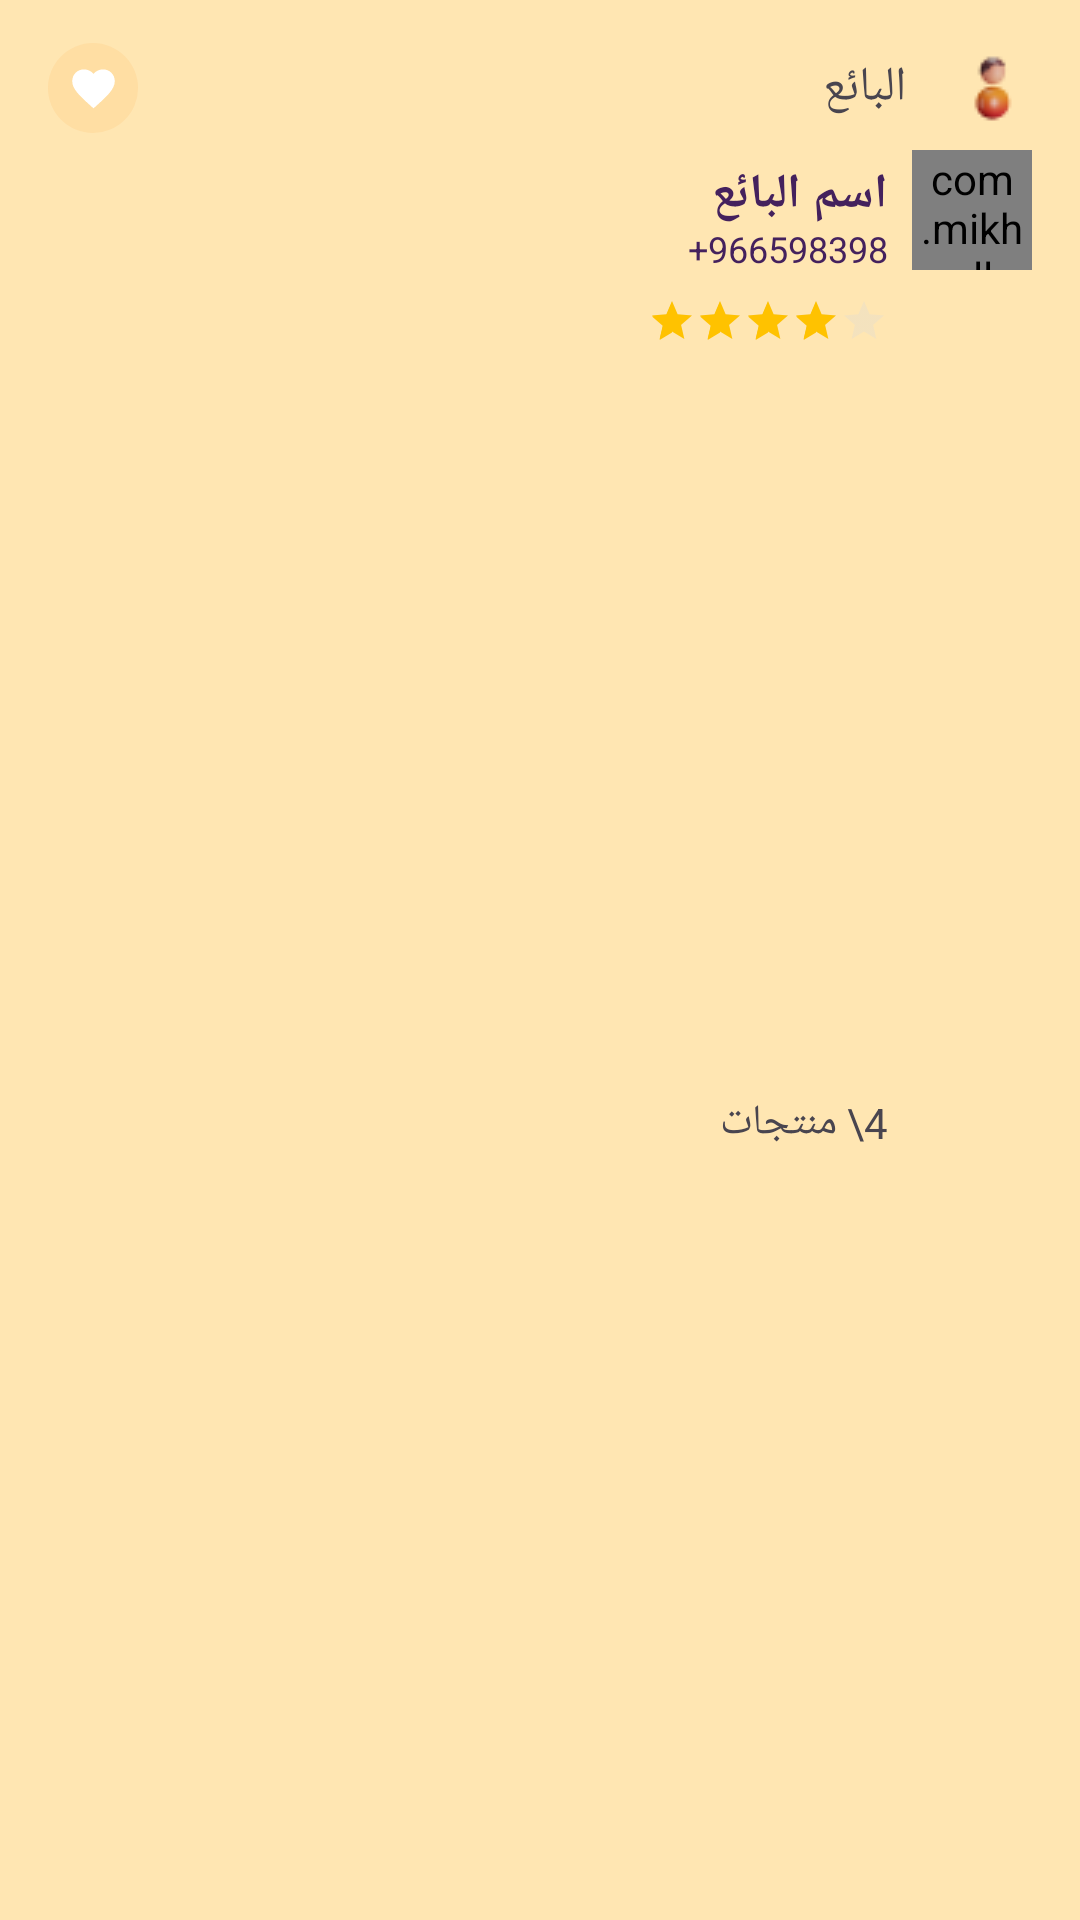

Named icons in this screenshot (1080px x 1920px) and their centers, [x,y]:
favorite: [93,88]
seller: [992,88]
